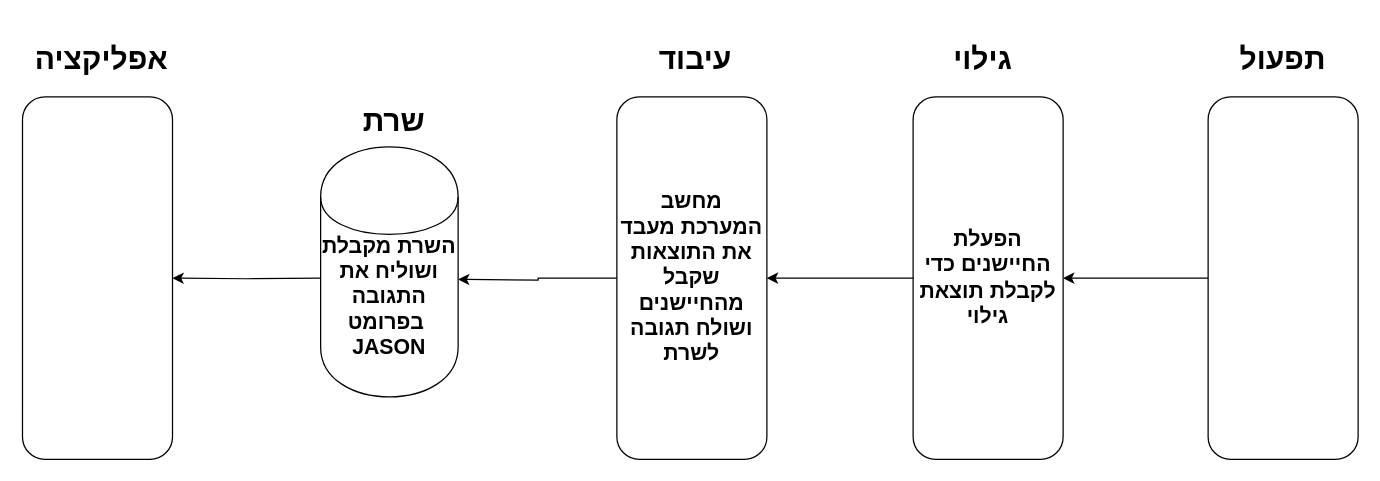
Some shapes in this 1380 by 481 pixel diagram are drawn without their labels. Here are the shapes that lost their labels. From the top down, the box of each, then its label:
(21, 96, 172, 459): האפליקציה מקבלת את התגובה ומענחת את התוכנן להתראה בהתאם לתוצאה לכל חיישן.
(1207, 96, 1358, 459): סגירת דלתות כא שר הרכב כבוי או תפעול דרך האפליקציה
